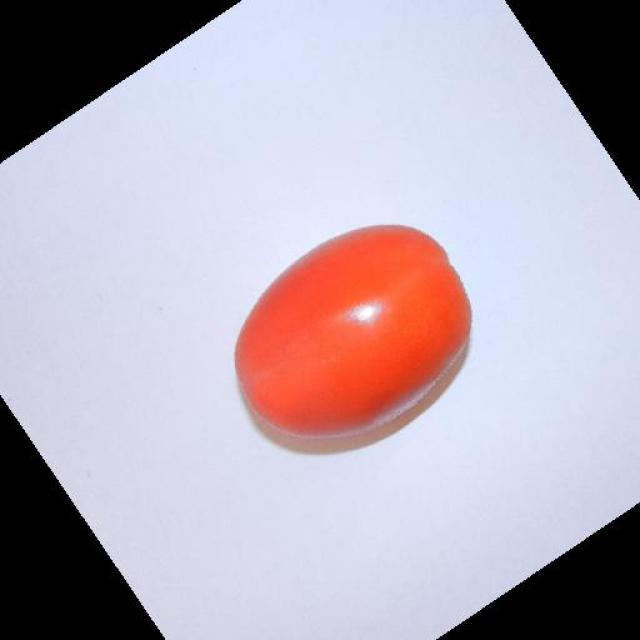tomato: (219, 214, 482, 473)
